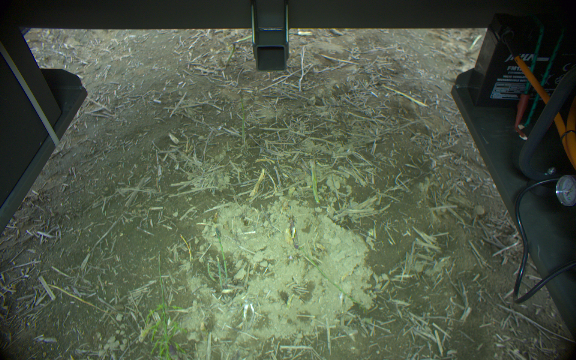aspa: (307, 149, 322, 205)
